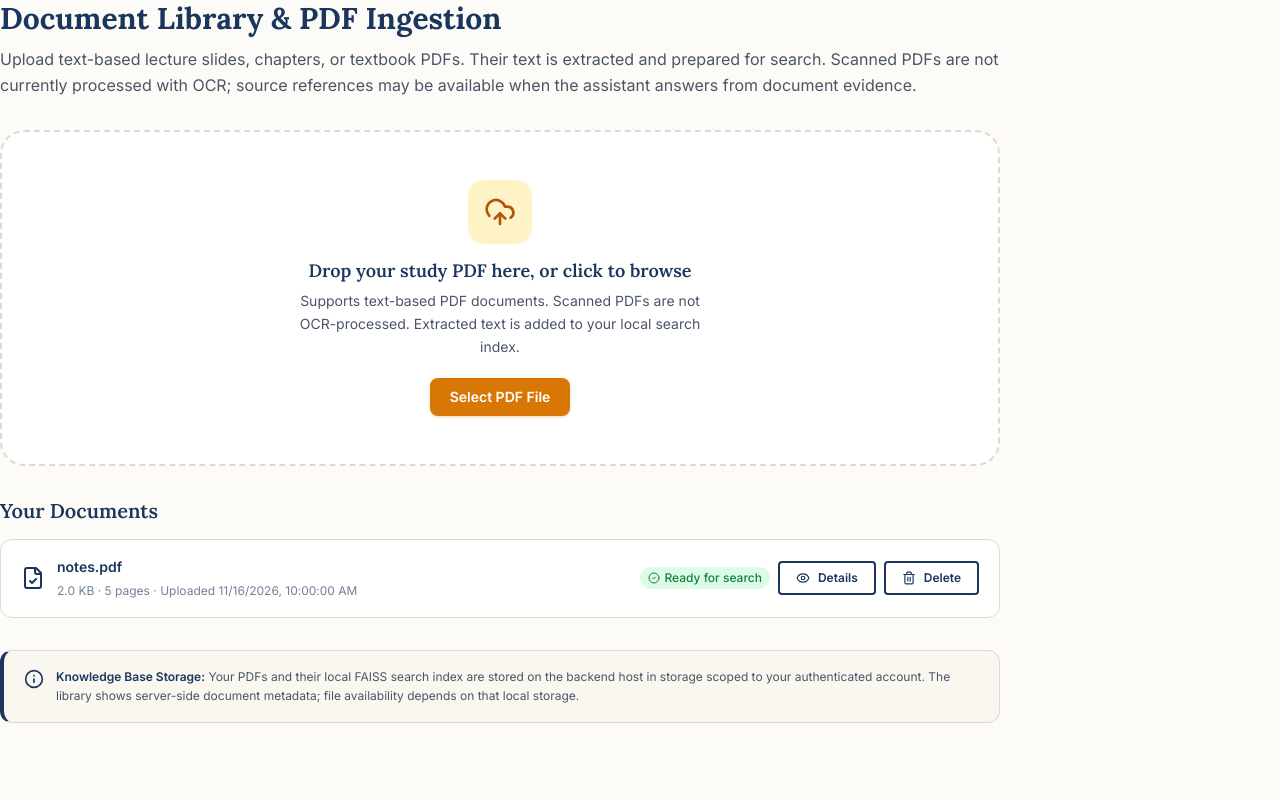
Test: DocumentLibraryPage › canceling deletion makes no request and confirming removes only on success
The image size is (1280, 800).
Check: the text "notes.pdf" is shown, box [57,558,122,575]
Click the button with aria-label "Delete notes.pdf" at (931, 578), box [884,561,979,595]
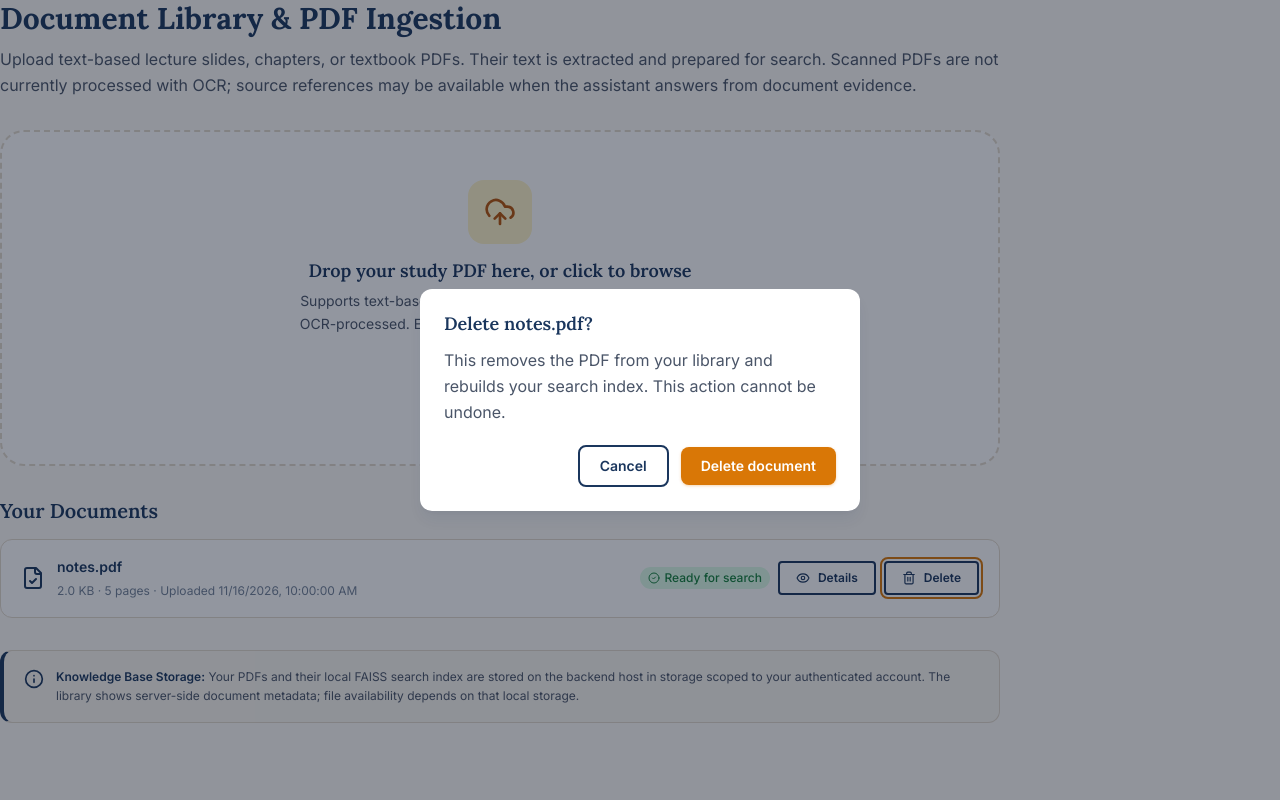
Check: the dialog is shown, box [420,289,860,511]
Click the button "Cancel" at (623, 466), box [578,445,669,487]
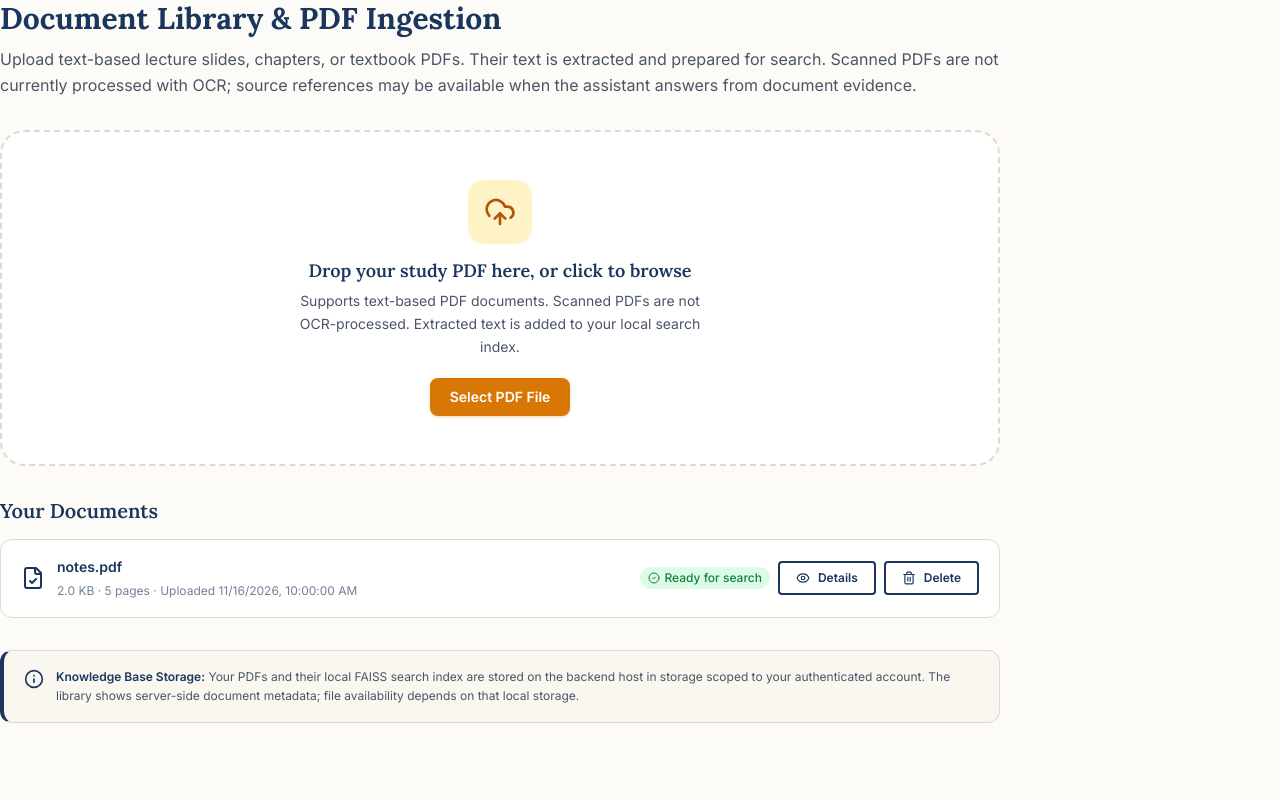
Click the button with aria-label "Delete notes.pdf" at (931, 578), box [884,561,979,595]
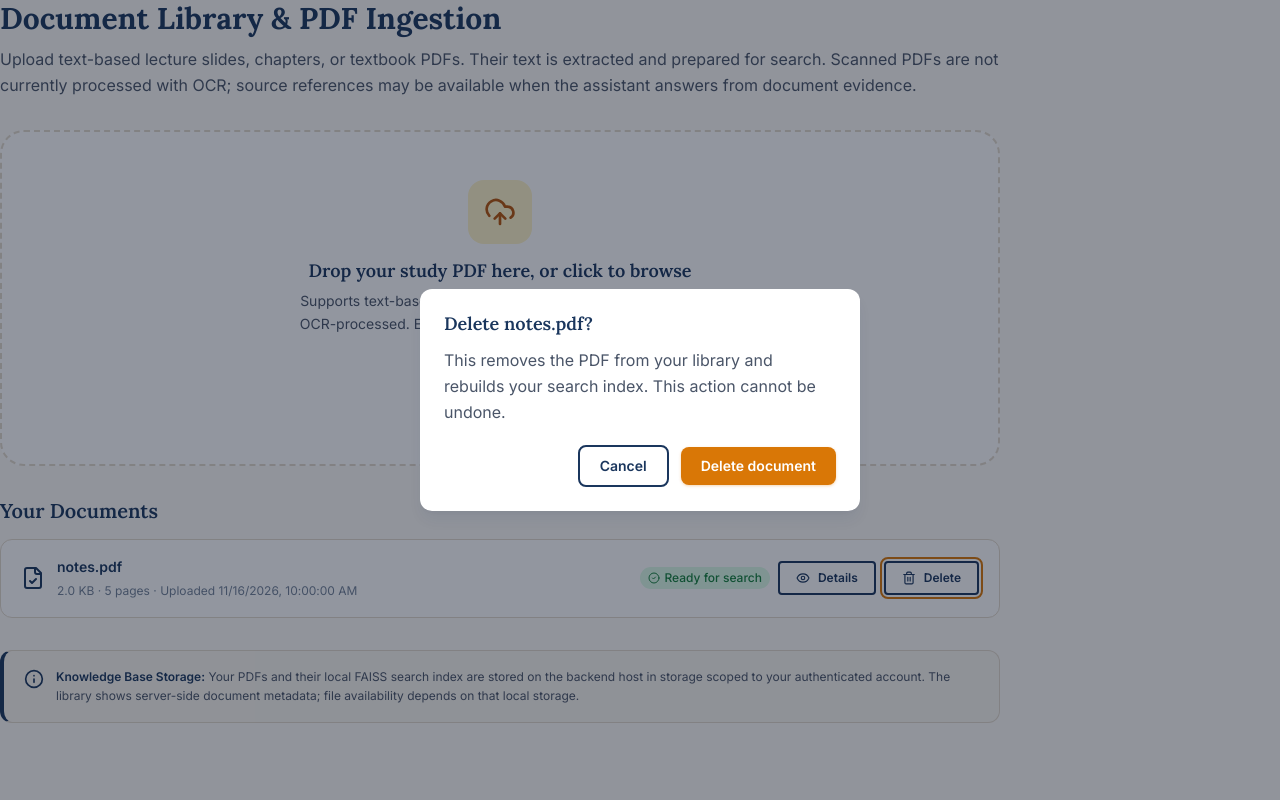
Click the button "Delete document" at (758, 466), box [681,447,836,485]
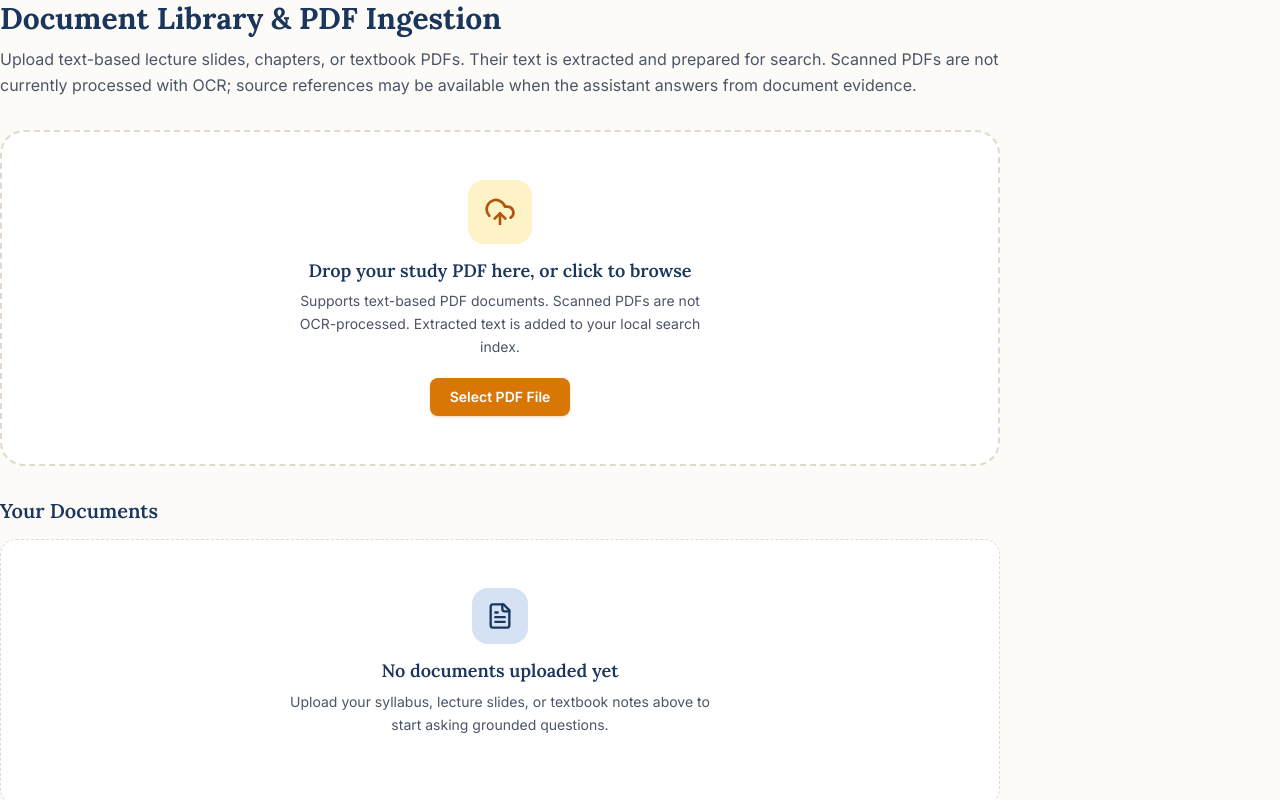
Check: the text "notes.pdf" is gone
